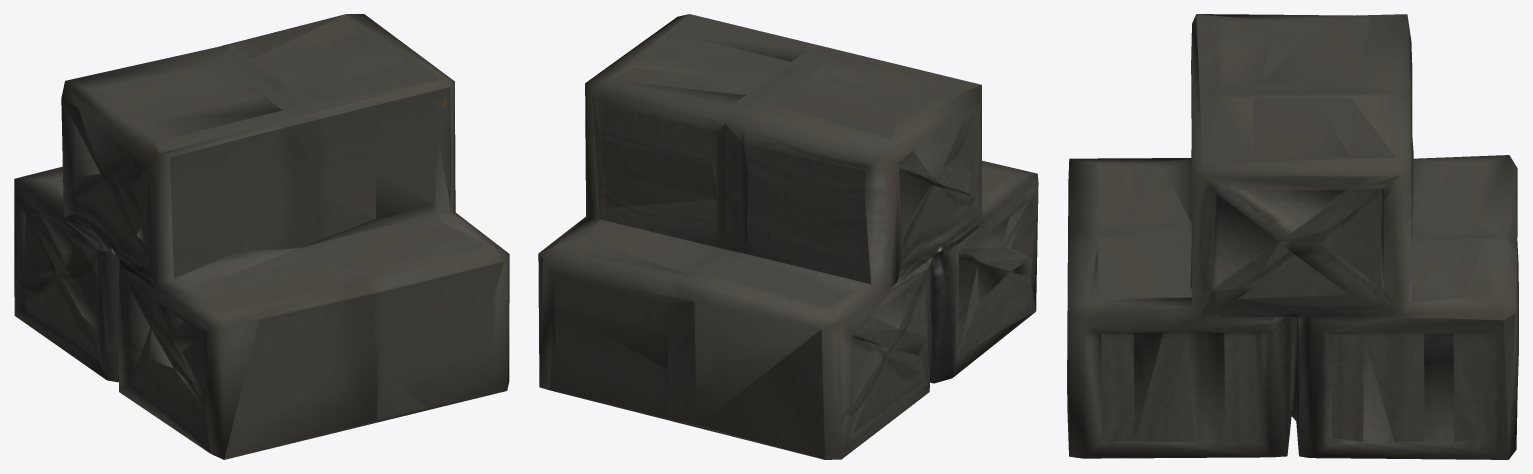
3 views of the same model, side by side, from view 1: azimuth 30°, elevation 25°; view 2: azimuth 150°, elevation 25°; view 3: azimuth 270°, elevation 25° (orthographic). The views are drawn at different scales.
Visible parts, largest first — view 1: tripo_node_ae94fd78.009; view 2: tripo_node_ae94fd78.009; view 3: tripo_node_ae94fd78.009.
Part boxes in pixels (box(x1,y1,x2,y2)): tripo_node_ae94fd78.009: box(14, 14, 509, 459); tripo_node_ae94fd78.009: box(538, 14, 1038, 459); tripo_node_ae94fd78.009: box(1067, 14, 1518, 459).
Bounding box in the file's own units: 6.98 × 5.82 × 8.11.
